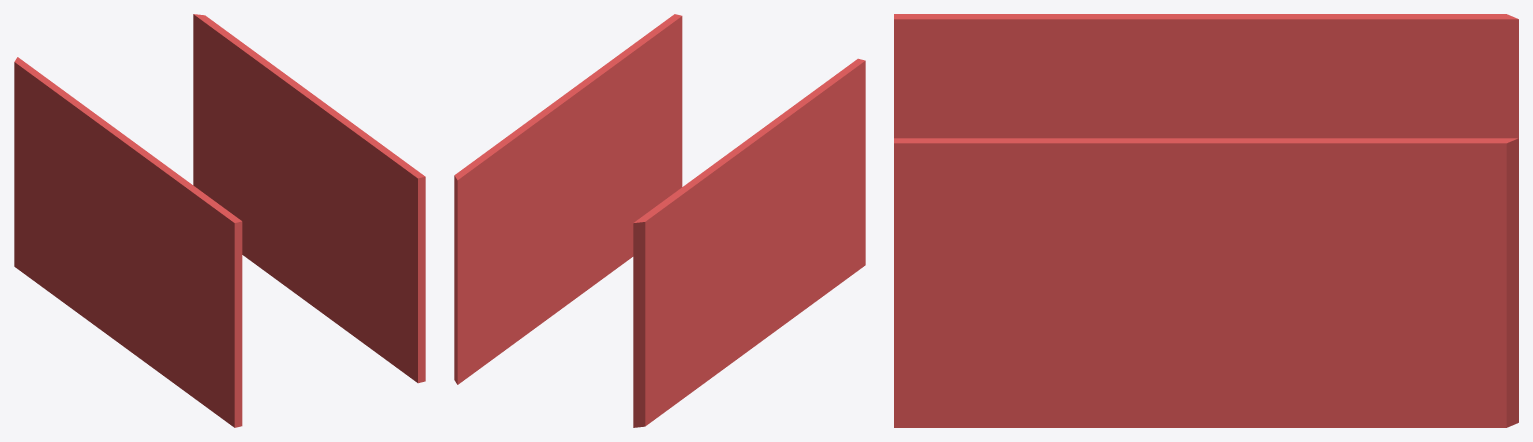
File: Corridor.fbx
3 renders of one model, left to right at view 1: azimuth 30°, elevation 25°; view 2: azimuth 150°, elevation 25°; view 3: azimuth 270°, elevation 25°, orthographic. The views are drawn at different scales.
Parts seen in each view (by area): view 1: CorridorWalls; view 2: CorridorWalls; view 3: CorridorWalls.
Boxes of the visible parts, <box> form: CorridorWalls: <box>14,14,425,427</box>; CorridorWalls: <box>454,14,865,427</box>; CorridorWalls: <box>894,14,1518,427</box>.
Size of the model in its own units: 250 by 256 by 510.
